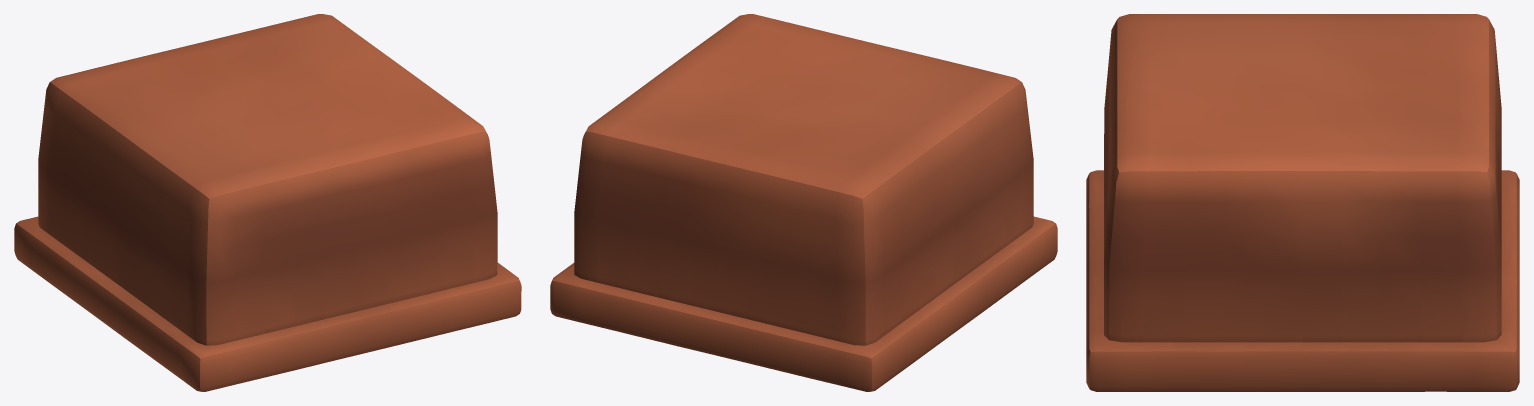
File: mire_planter.glb
3 renders of one model, left to right at view 1: azimuth 30°, elevation 25°; view 2: azimuth 150°, elevation 25°; view 3: azimuth 270°, elevation 25°, orthographic. The views are drawn at different scales.
Parts seen in each view (by area): view 1: mire_planter; view 2: mire_planter; view 3: mire_planter.
Boxes of the visible parts, bbox=[...] form: mire_planter: bbox=[14, 14, 521, 391]; mire_planter: bbox=[550, 14, 1057, 391]; mire_planter: bbox=[1086, 14, 1519, 391].
Bounding box in the file's own units: 12 × 6.62 × 12.
